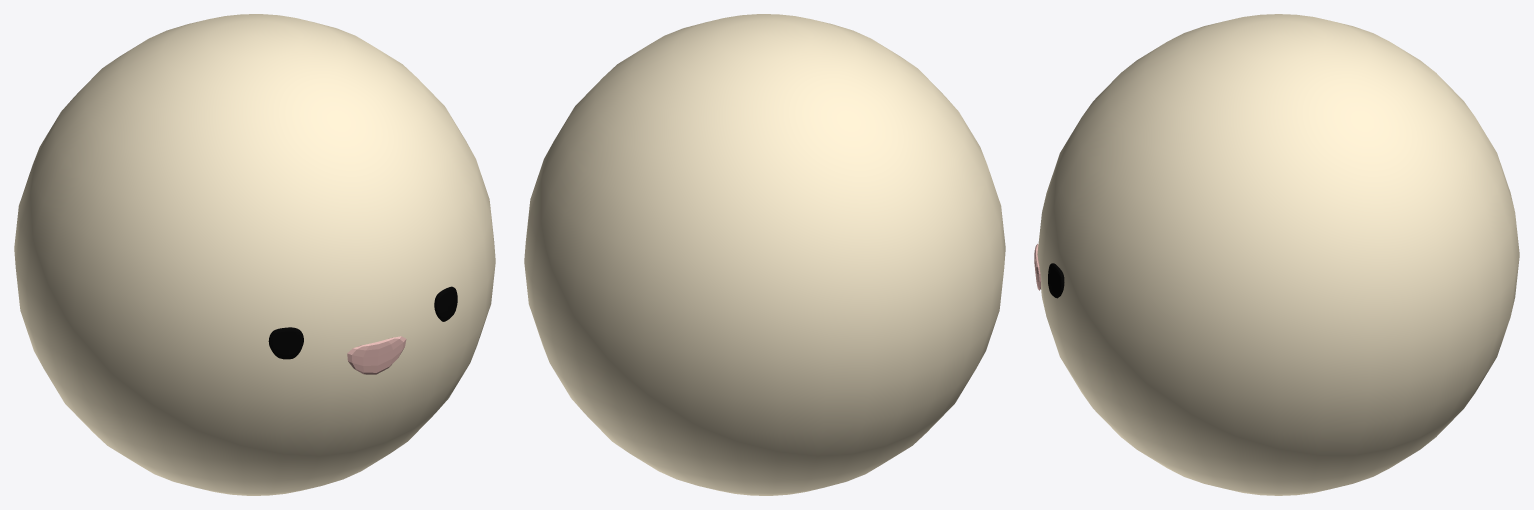
Rendered from Gnome.fbx.
3 renders of one model, left to right at view 1: azimuth 30°, elevation 25°; view 2: azimuth 150°, elevation 25°; view 3: azimuth 270°, elevation 25°, orthographic.
Visible parts, largest first — view 1: Sphere.001, Plane.001, Plane.002; view 2: Sphere.001; view 3: Sphere.001.
Part boxes in pixels (left/top/right/bottom): Sphere.001: left=14, top=14, right=495, bottom=495; Plane.001: left=268, top=286, right=457, bottom=359; Plane.002: left=347, top=336, right=406, bottom=374; Sphere.001: left=524, top=14, right=1005, bottom=495; Sphere.001: left=1037, top=14, right=1519, bottom=495.
Size of the model in its own units: 60.32 by 60.32 by 60.71.
